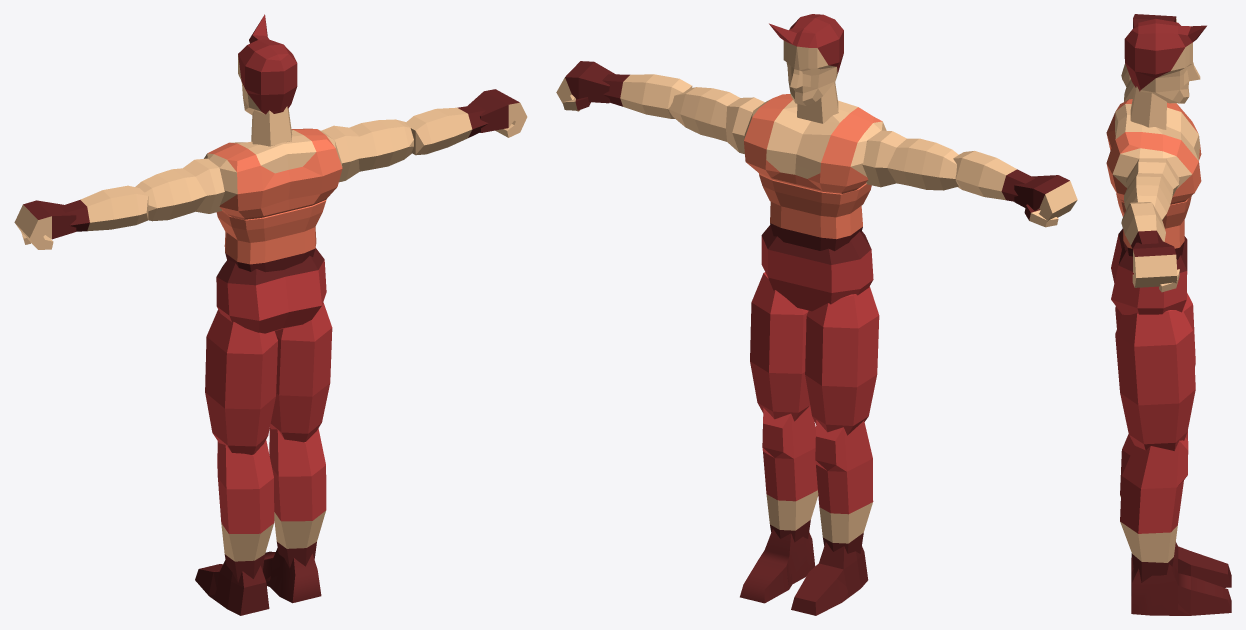
The model's file is john.fbx.
3 renders of one model, left to right at view 1: azimuth 30°, elevation 25°; view 2: azimuth 150°, elevation 25°; view 3: azimuth 270°, elevation 25°, orthographic. The views are drawn at different scales.
Visible parts, largest first — view 1: ARC_SEBO_T, ARC_MOMO_L, ARC_KOSI, ARC_HIZA_L, ARC_MOMO_R, ARC_HIZA_R, ARC_KAO, ARC_KATA_L, ARC_KATA_R, ARC_UDE_L, ARC_SEBO_B, ARC_UDE_R (+6 smaller); view 2: ARC_SEBO_T, ARC_MOMO_L, ARC_MOMO_R, ARC_HIZA_L, ARC_KOSI, ARC_HIZA_R, ARC_KAO, ARC_KATA_L, ARC_KATA_R, ARC_SEBO_B, ARC_UDE_R, ARC_UDE_L (+8 smaller); view 3: ARC_MOMO_R, ARC_HIZA_R, ARC_SEBO_T, ARC_KAO, ARC_KOSI, ARC_KAKA_R, ARC_KATA_R, ARC_TE_R, ARC_UDE_R, ARC_TUMA_R, ARC_KUBI, ARC_TUMA_L (+6 smaller).
Boxes of the visible parts, x1,y1,x2,y2 form: ARC_SEBO_T: (204,128,342,219); ARC_MOMO_L: (205,309,277,454); ARC_KOSI: (216,248,326,333); ARC_HIZA_L: (217,440,274,582); ARC_MOMO_R: (270,302,332,442); ARC_HIZA_R: (269,427,326,567); ARC_KAO: (238,14,297,114); ARC_KATA_L: (135,158,224,221); ARC_KATA_R: (321,119,413,182); ARC_UDE_L: (60,185,148,231); ARC_SEBO_B: (224,227,316,272); ARC_UDE_R: (405,105,488,155); ARC_SEBO_T: (744,94,886,193); ARC_MOMO_L: (805,286,879,435); ARC_MOMO_R: (750,272,809,421); ARC_HIZA_L: (815,420,873,553); ARC_KOSI: (761,225,873,311); ARC_HIZA_R: (762,405,818,542); ARC_KAO: (769,14,843,105); ARC_KATA_L: (862,130,958,190); ARC_KATA_R: (669,87,764,154); ARC_SEBO_B: (770,202,862,251); ARC_UDE_R: (602,74,692,118); ARC_UDE_L: (953,151,1034,201); ARC_MOMO_R: (1115,310,1195,450); ARC_HIZA_R: (1120,437,1188,582); ARC_SEBO_T: (1106,99,1201,204); ARC_KAO: (1124,18,1206,103); ARC_KOSI: (1111,228,1187,314); ARC_KAKA_R: (1131,563,1190,615); ARC_KATA_R: (1124,158,1179,220); ARC_TE_R: (1132,241,1179,292); ARC_UDE_R: (1121,202,1165,249); ARC_TUMA_R: (1178,576,1231,615); ARC_KUBI: (1130,86,1166,129); ARC_TUMA_L: (1181,551,1231,587).
Bounding box in the file's own units: 17.22 × 18.52 × 3.63.
